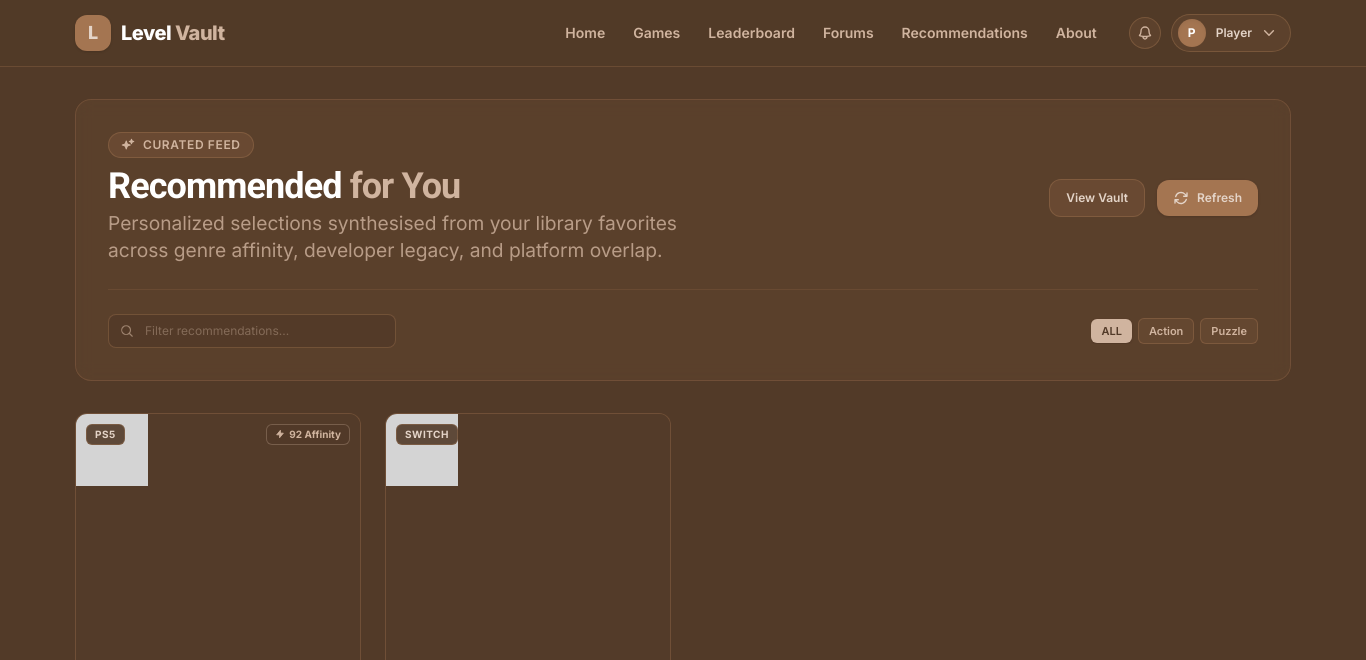
Scenario: RecommendationsPage › shows an empty filter state and resets filters on click
In the field with placeholder "Filter recommendations...": (252, 331) [108,314,396,348], type "no-match-here"
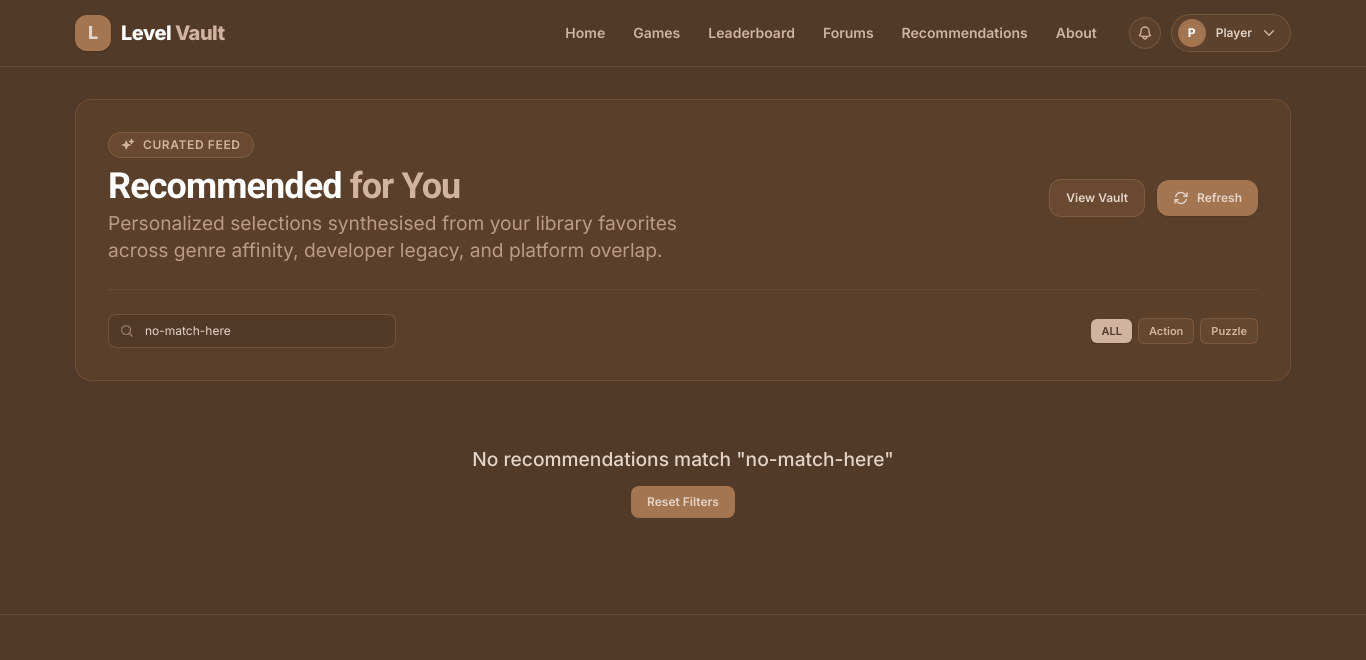
Check: the text "No recommendations match \"no-match-here\"" is shown, box [472,445,894,474]
Click the button "Reset Filters": (683, 502) [631,486,735,518]
(page scrolled)
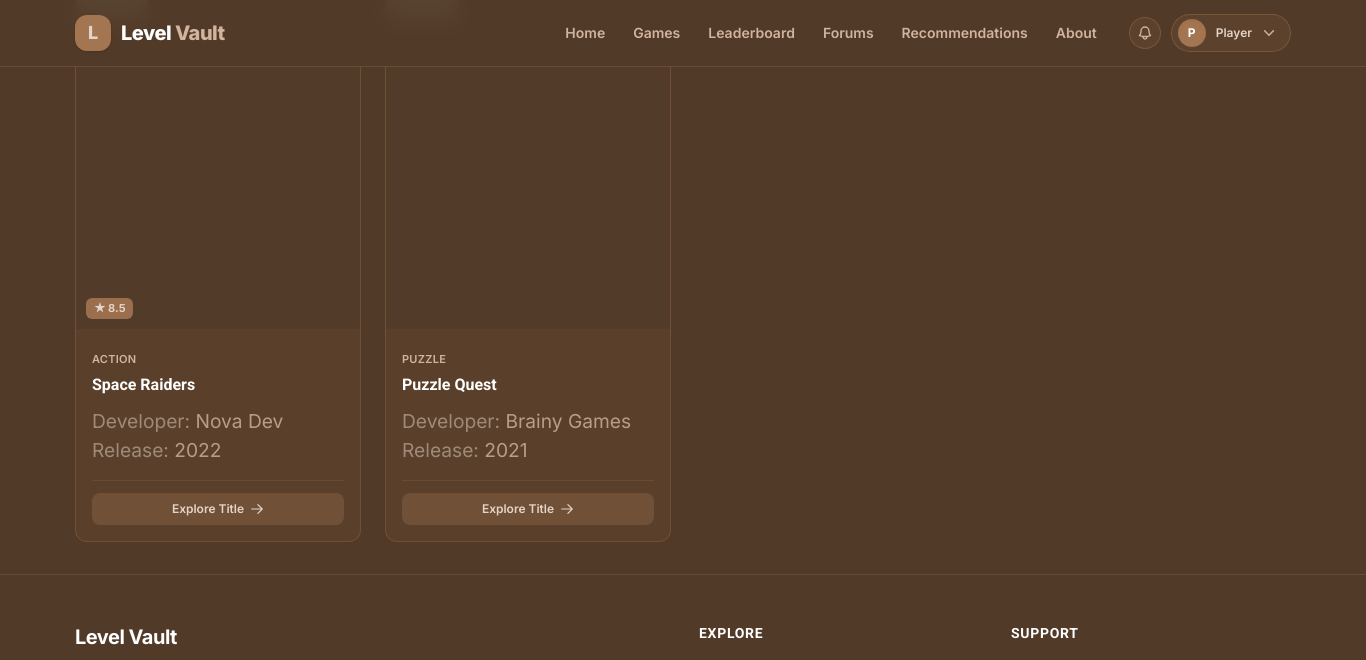
Check: the heading "Space Raiders" is shown, box [92,374,195,394]
Check: the heading "Puzzle Quest" is shown, box [402,374,497,394]
